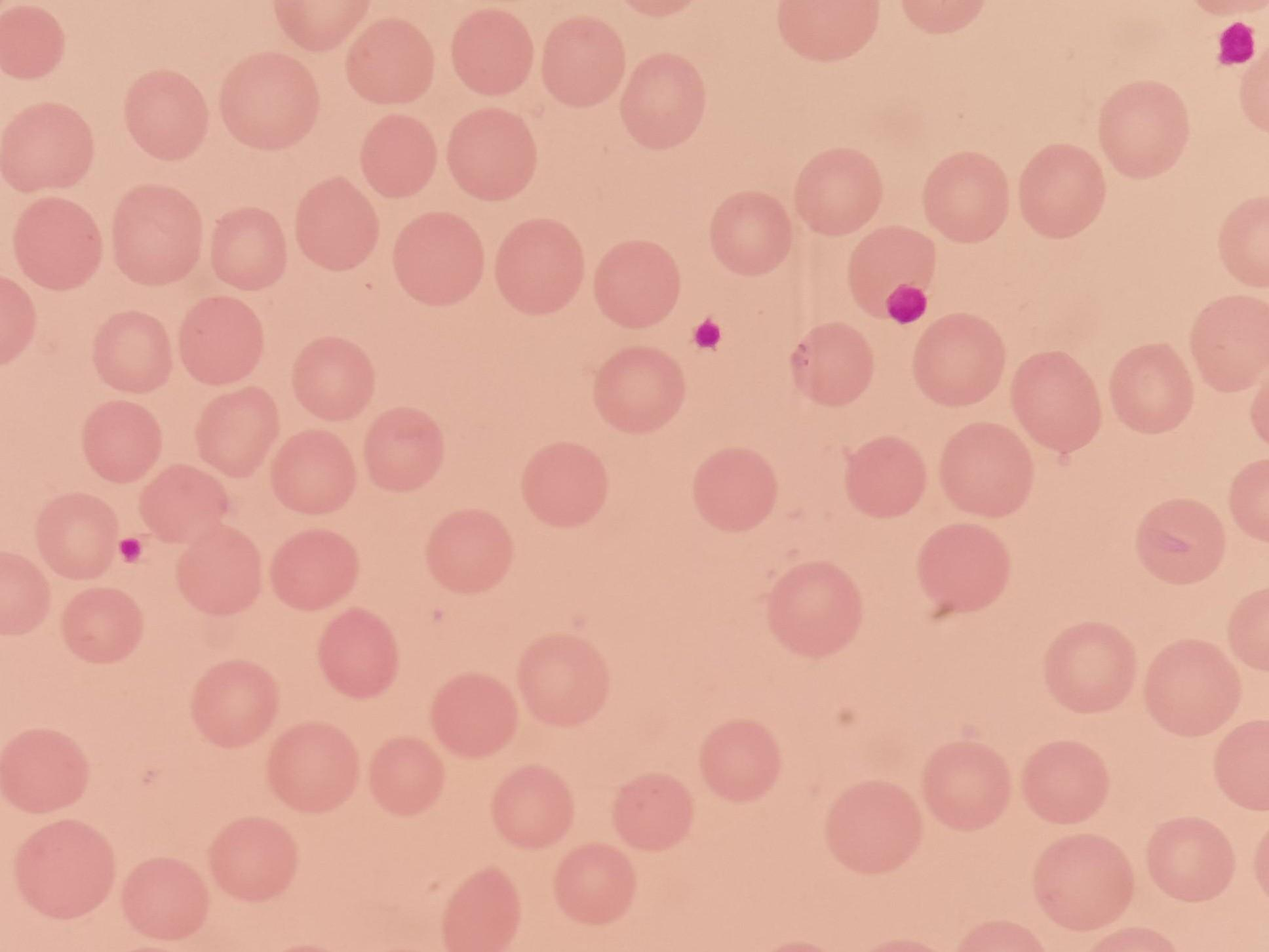Uninfected: (937, 420, 1039, 521), (13, 818, 113, 918), (1034, 831, 1135, 927), (219, 52, 319, 148), (112, 182, 205, 285), (1011, 351, 1103, 450), (824, 780, 920, 874), (766, 563, 863, 656), (916, 522, 1011, 616), (911, 312, 1006, 406), (1142, 639, 1236, 734), (393, 210, 486, 305), (12, 195, 104, 290), (1096, 80, 1188, 175), (496, 218, 587, 312), (1043, 622, 1136, 713), (2, 100, 95, 191), (848, 224, 936, 320), (446, 108, 538, 199), (517, 635, 607, 726), (1019, 142, 1107, 235), (178, 293, 267, 384), (346, 16, 439, 103), (922, 741, 1012, 830), (593, 345, 684, 433), (125, 69, 212, 161), (207, 818, 298, 905), (619, 55, 705, 147), (923, 152, 1011, 241), (1144, 817, 1234, 904), (593, 237, 680, 326), (1135, 498, 1224, 585), (271, 528, 361, 614), (267, 723, 357, 809), (1108, 344, 1194, 433), (175, 526, 262, 613), (539, 16, 626, 103), (451, 10, 538, 97), (315, 606, 399, 696), (1, 726, 88, 812), (794, 148, 882, 233), (269, 429, 357, 514), (36, 492, 121, 580), (427, 509, 515, 594), (296, 180, 380, 269), (138, 463, 229, 545), (695, 447, 781, 533), (1023, 740, 1110, 825), (191, 660, 279, 744), (520, 442, 608, 526), (1192, 293, 1269, 387), (195, 391, 279, 477), (431, 673, 518, 756), (119, 857, 208, 938), (291, 336, 376, 420), (79, 399, 162, 485), (699, 719, 781, 803), (843, 435, 926, 517), (364, 408, 447, 490), (490, 764, 573, 846), (792, 321, 873, 405), (361, 115, 442, 199), (711, 191, 792, 274), (92, 311, 172, 393), (442, 867, 521, 950), (554, 846, 635, 926), (61, 587, 143, 665), (210, 208, 288, 290), (612, 774, 693, 851), (777, 1, 876, 61), (368, 737, 444, 814), (1212, 718, 1269, 808), (0, 6, 66, 79), (1216, 198, 1269, 286), (275, 2, 366, 51)
